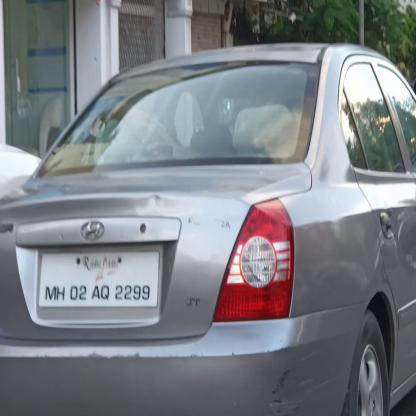license_plate: (38, 249, 159, 307)
